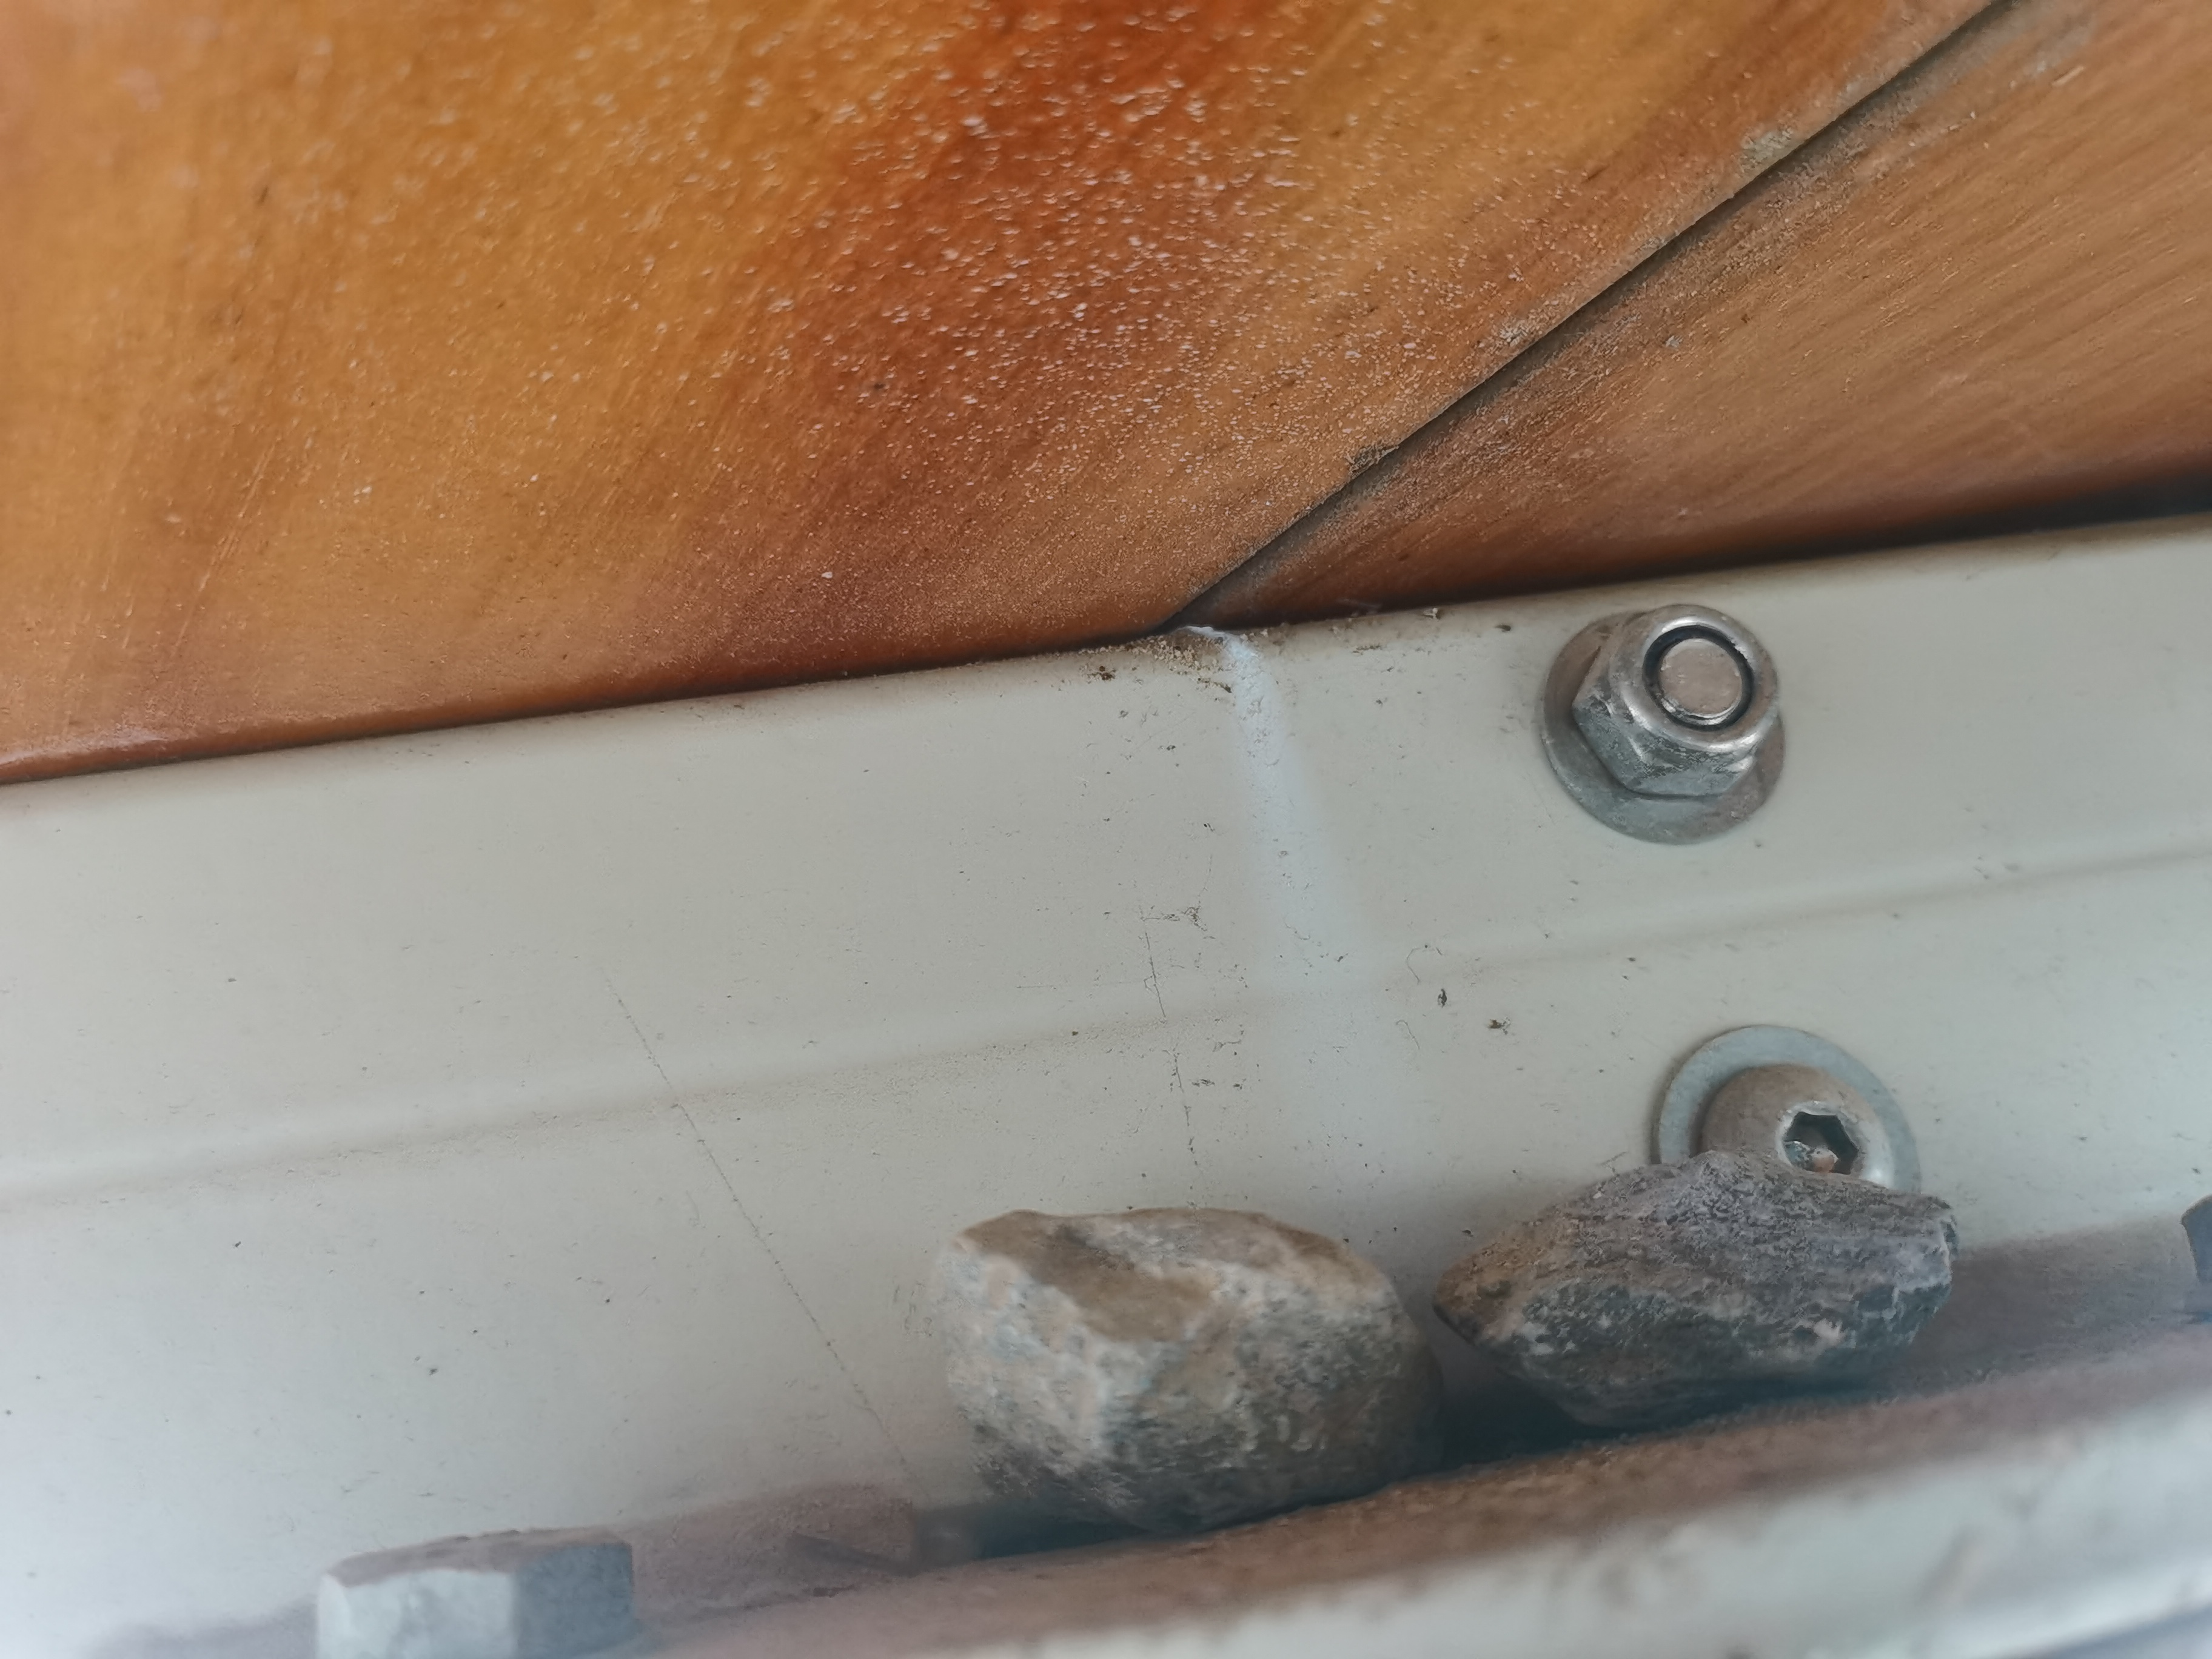bolt_b: (1559, 594, 1791, 816)
